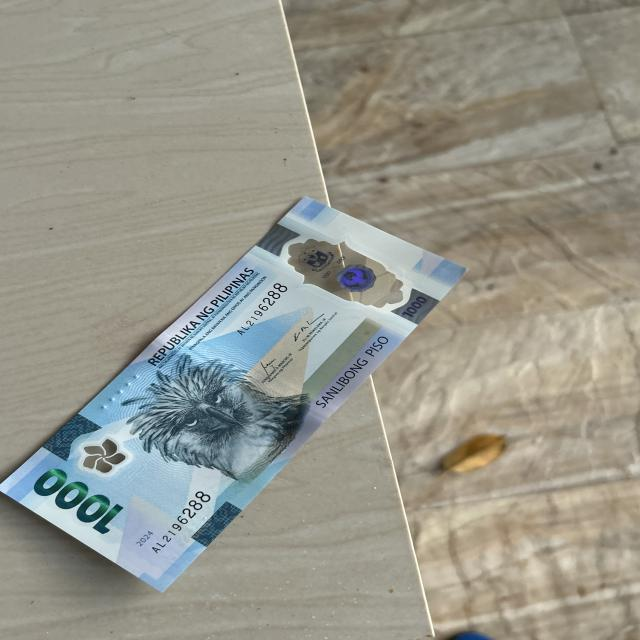clear_window: (286, 234, 415, 314)
eagle: (142, 349, 286, 473)
sampaguita: (77, 439, 128, 475)
